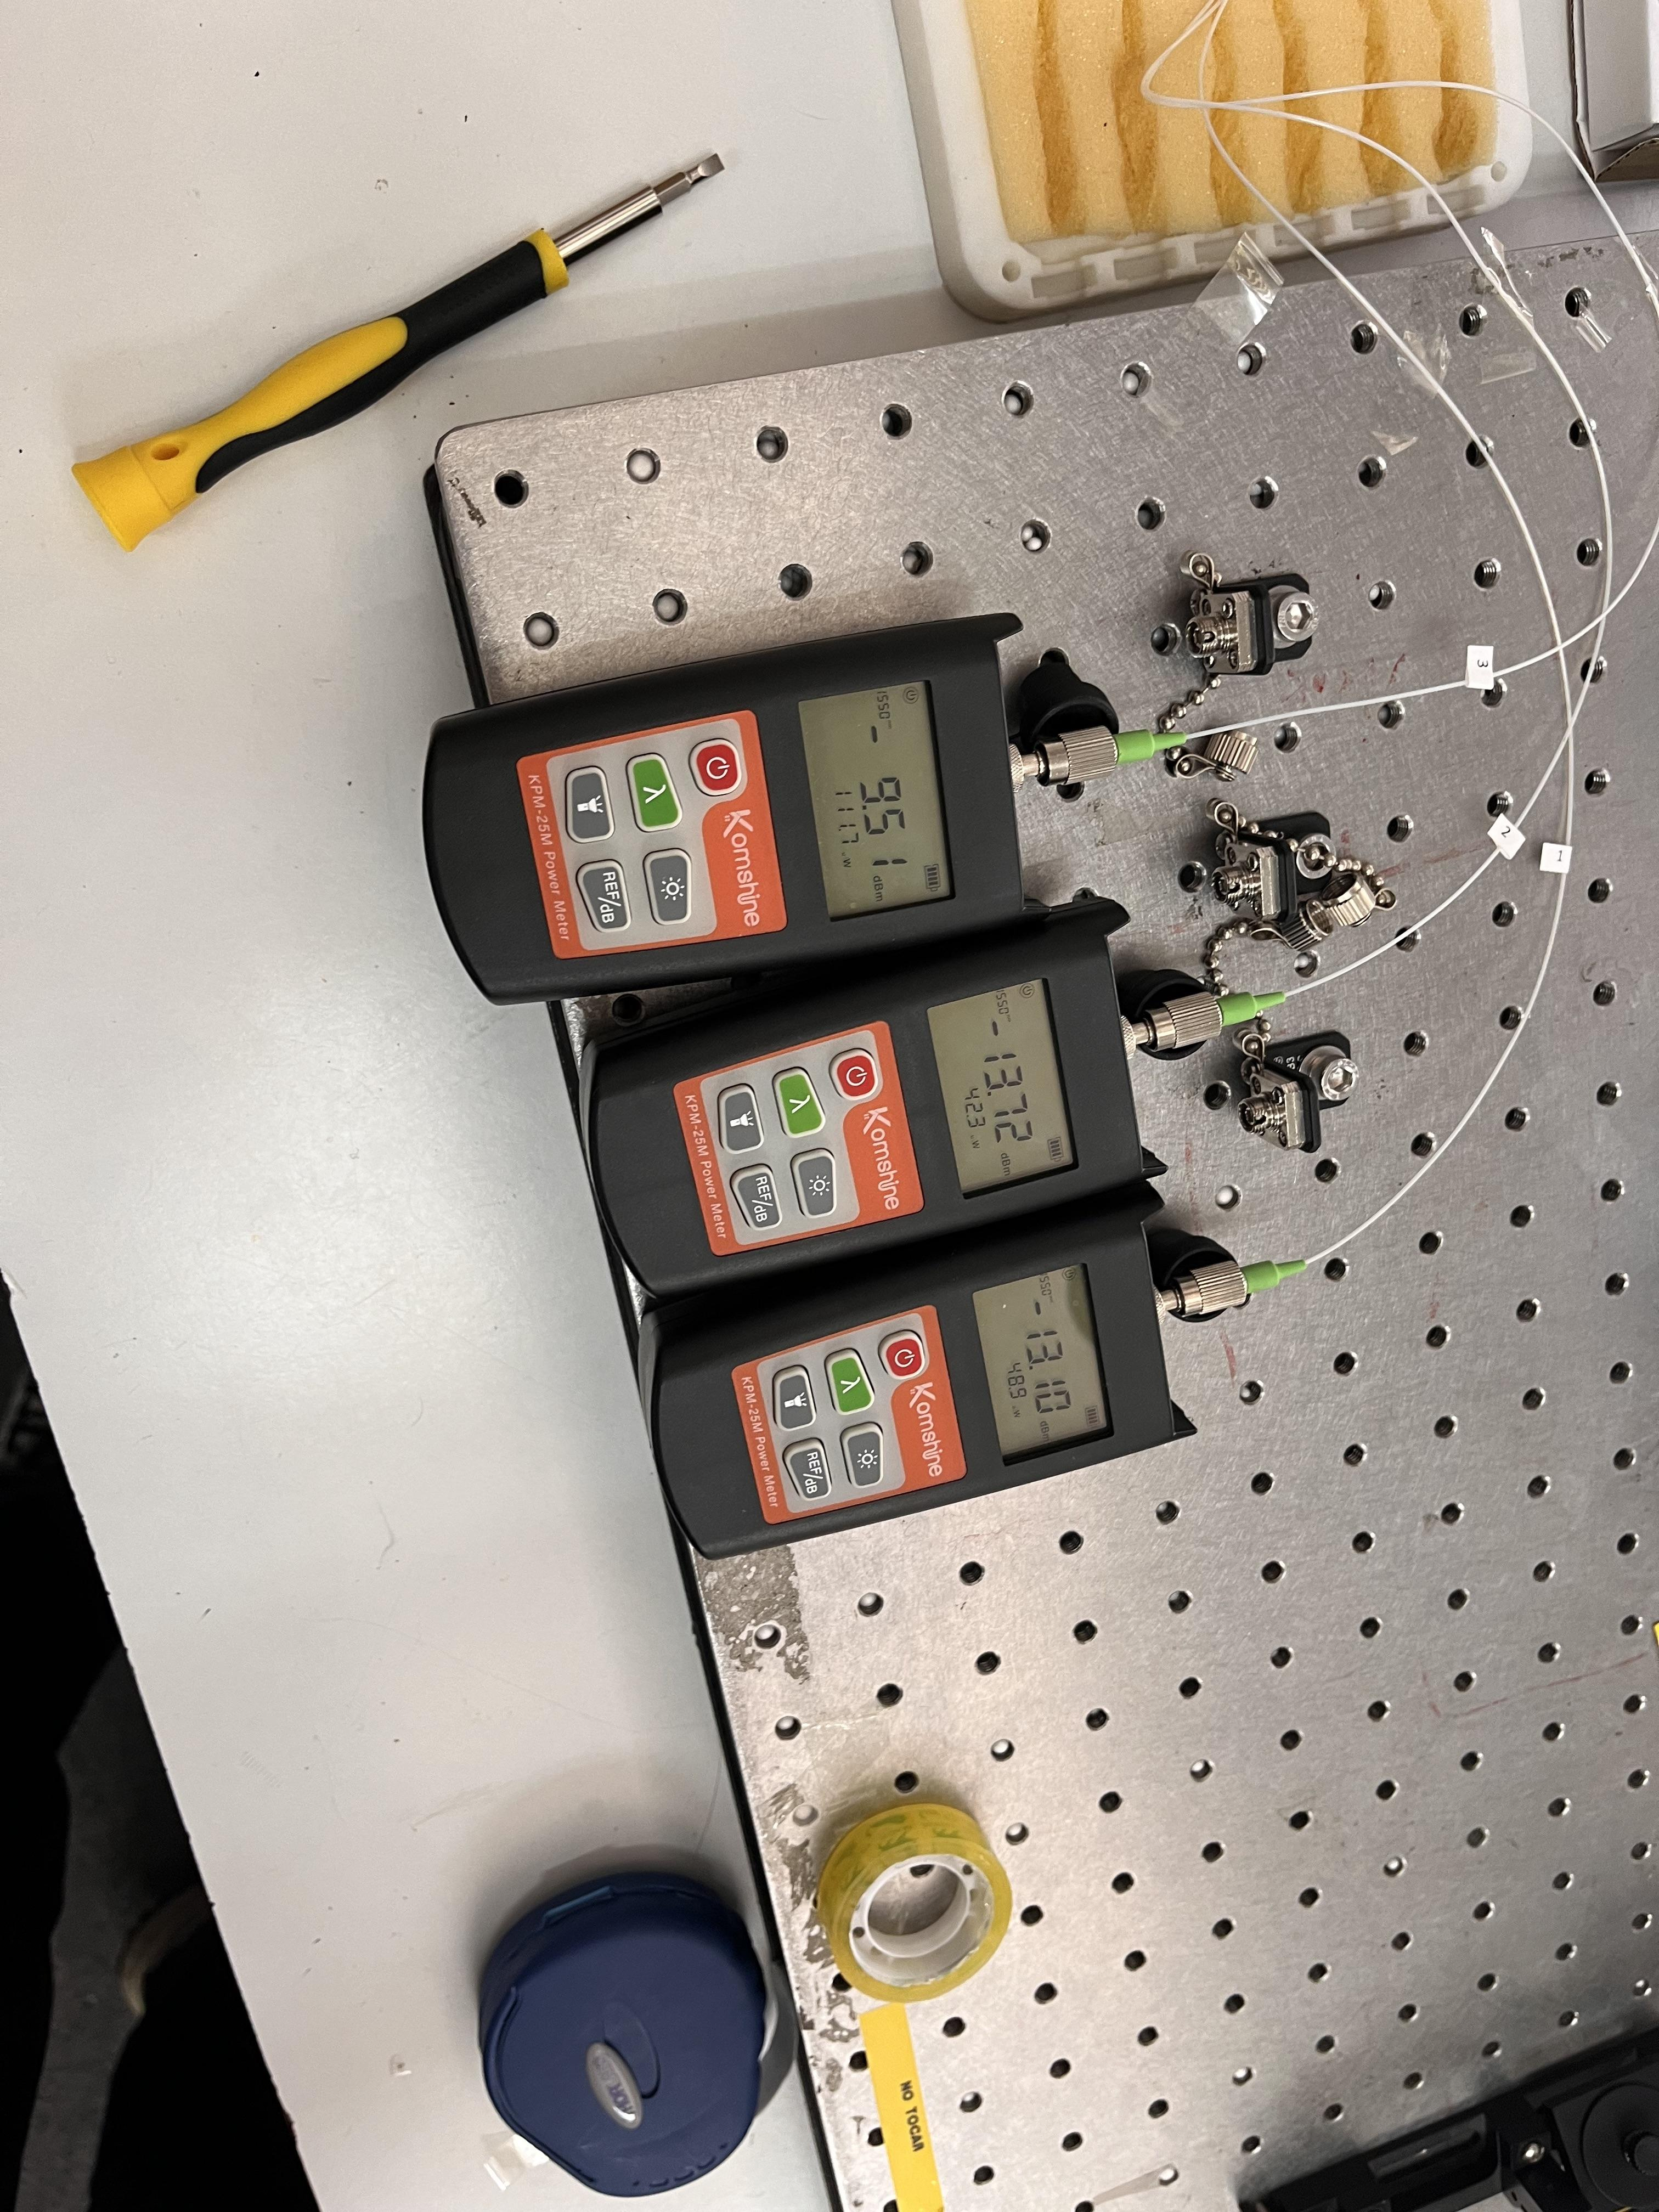powermeter: (411, 590, 1040, 1029), (579, 897, 1162, 1320), (627, 1204, 1209, 1575)
